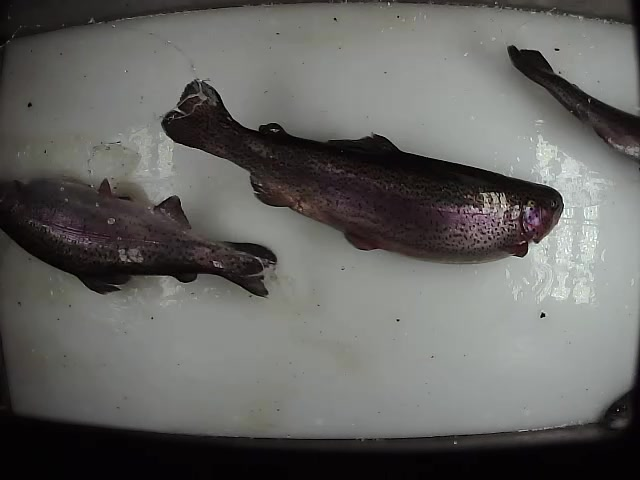fish: (159, 78, 565, 269), (1, 171, 280, 300), (505, 41, 640, 164)
